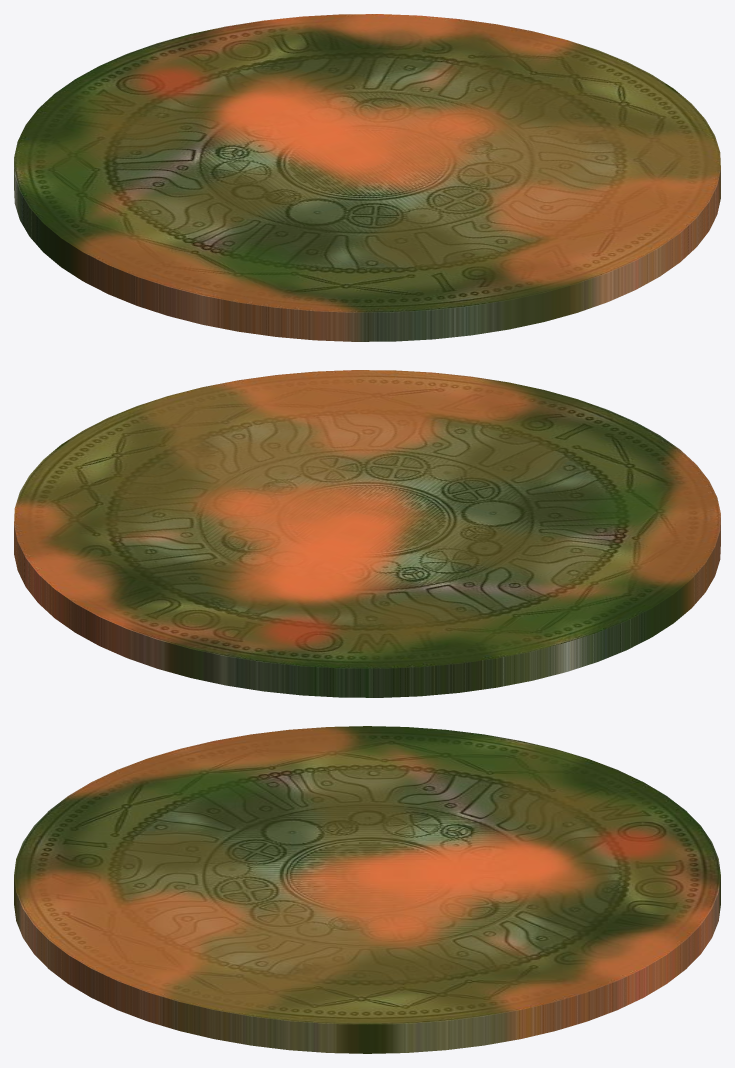
File: twopound.fbx
3 renders of one model, top to bottom at view 1: azimuth 30°, elevation 25°; view 2: azimuth 150°, elevation 25°; view 3: azimuth 270°, elevation 25°, orthographic.
Visible parts, largest first — view 1: Cylinder003; view 2: Cylinder003; view 3: Cylinder003.
Boxes of the visible parts, x1,y1,x2,y2 form: Cylinder003: [14, 14, 720, 341]; Cylinder003: [14, 370, 720, 697]; Cylinder003: [14, 726, 720, 1053].
Bounding box in the file's own units: 5.09 × 0.231 × 5.09.
Materials: 1 (1 with a texture image).
